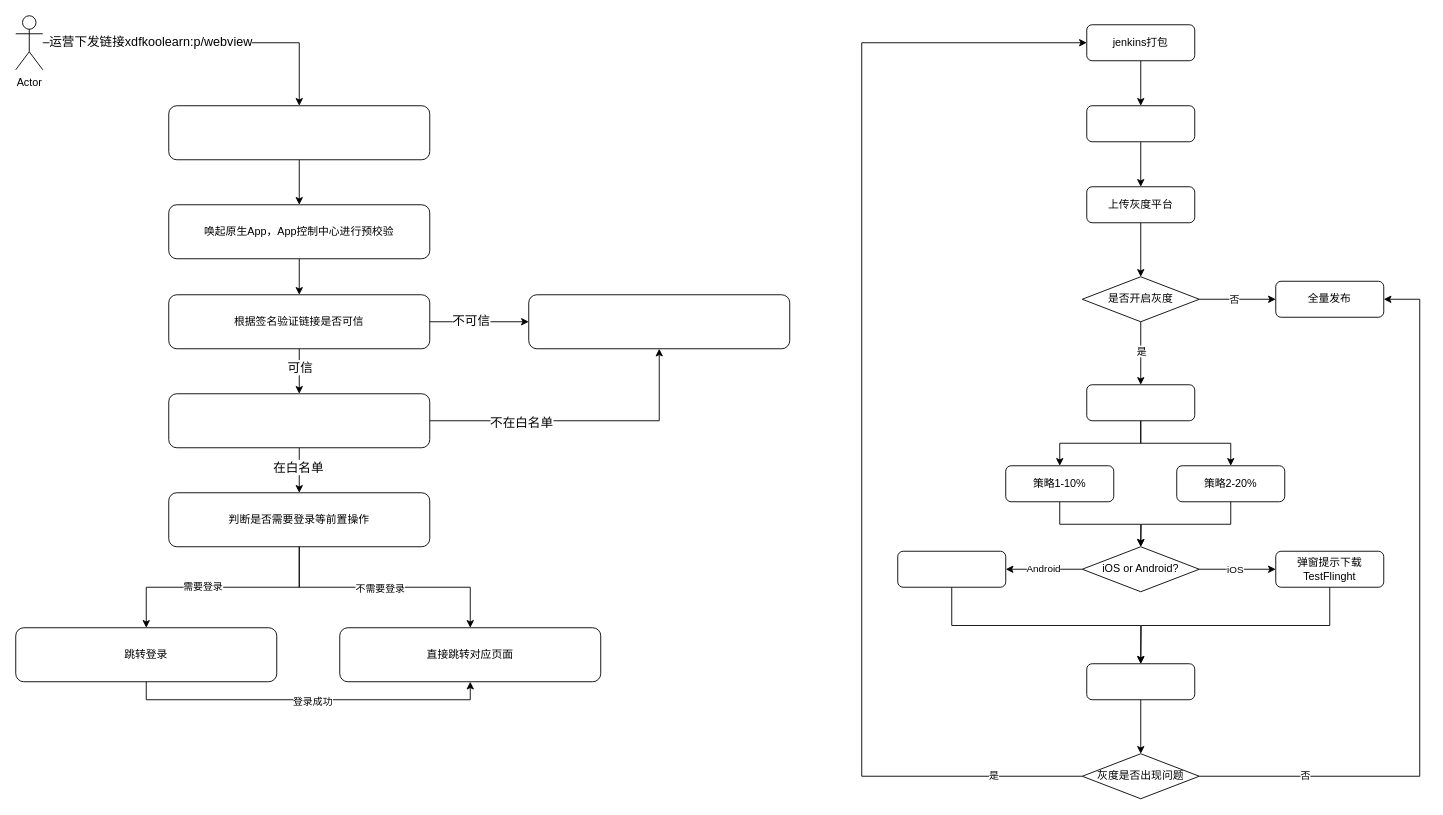
Some shapes in this 1443 by 815 pixel diagram are drawn without their labels. The centre of each missing label's shape, as x and y in pixels:
QA验证: point 1140,123
WebView验证url是否在白名单（koolearn.com/xdf.cn): point 299,420
上传反馈埋点: point 1140,681
弹窗下载更新: point 951,568
灰度放量: point 1140,402
用户点击对应链接: point 299,132
禁止跳转，返回原页面: point 659,321
